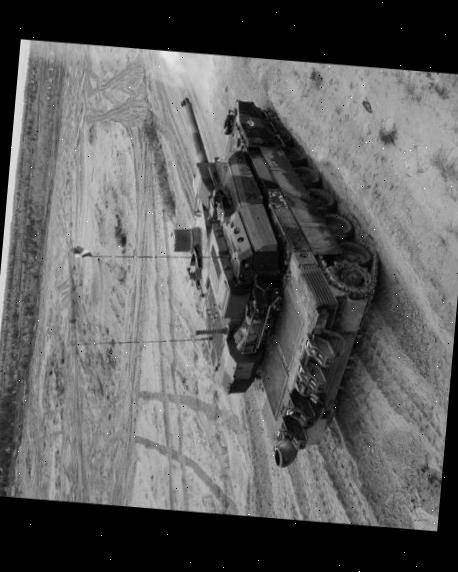tank: (143, 88, 396, 474)
